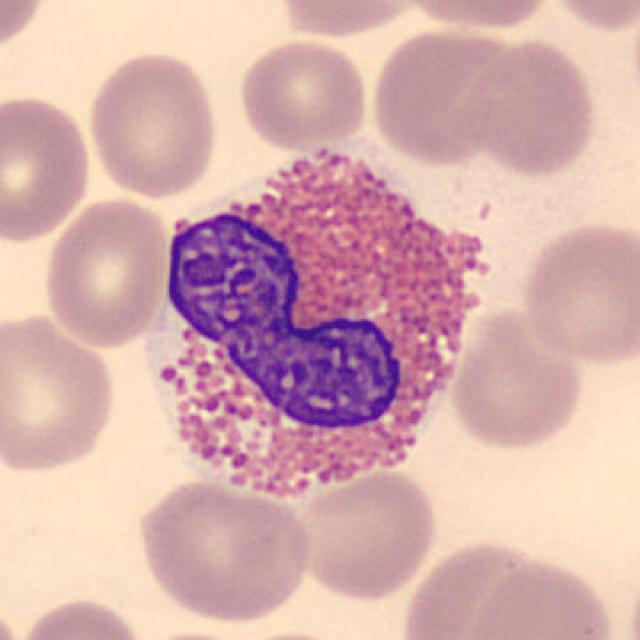Eosinophil: (133, 124, 500, 524)
RBC: (132, 478, 318, 626), (366, 23, 519, 167), (444, 303, 586, 455), (286, 464, 441, 603), (84, 48, 222, 201), (39, 194, 173, 349), (0, 308, 121, 478), (459, 35, 601, 178), (518, 218, 638, 366), (395, 534, 558, 640), (235, 35, 372, 155), (0, 90, 96, 247), (462, 555, 620, 640), (12, 592, 153, 640), (274, 0, 428, 41), (394, 0, 556, 33), (542, 0, 638, 35), (0, 0, 50, 58)
